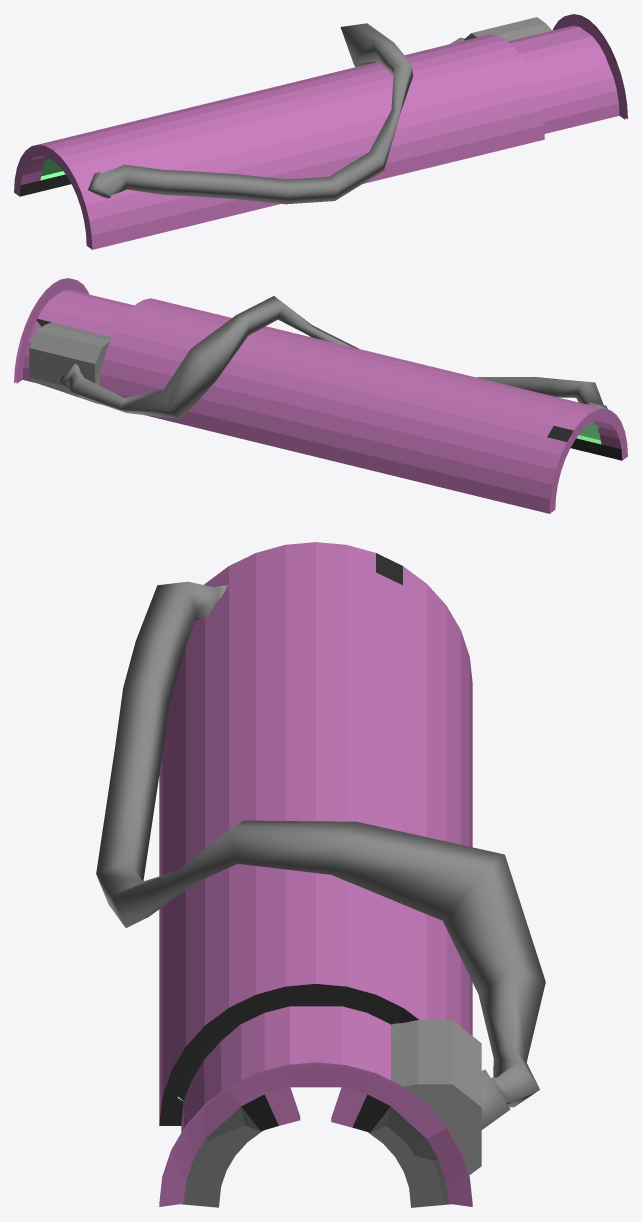
The picture shows the model from 3 angles, top to bottom: view 1: azimuth 30°, elevation 25°; view 2: azimuth 150°, elevation 25°; view 3: azimuth 270°, elevation 25°; orthographic projection. The views are drawn at different scales.
Parts seen in each view (by area): view 1: Cylinder, BezierCurve; view 2: Cylinder, BezierCurve; view 3: Cylinder, BezierCurve.
Part boxes in pixels (left/top/right/bottom): Cylinder: left=14, top=14, right=627, bottom=249; BezierCurve: left=88, top=23, right=464, bottom=204; Cylinder: left=14, top=278, right=627, bottom=513; BezierCurve: left=57, top=296, right=607, bottom=419; Cylinder: left=159, top=542, right=481, bottom=1207; BezierCurve: left=96, top=581, right=545, bottom=1129.
Bounding box in the file's own units: 925 × 155 × 336.
